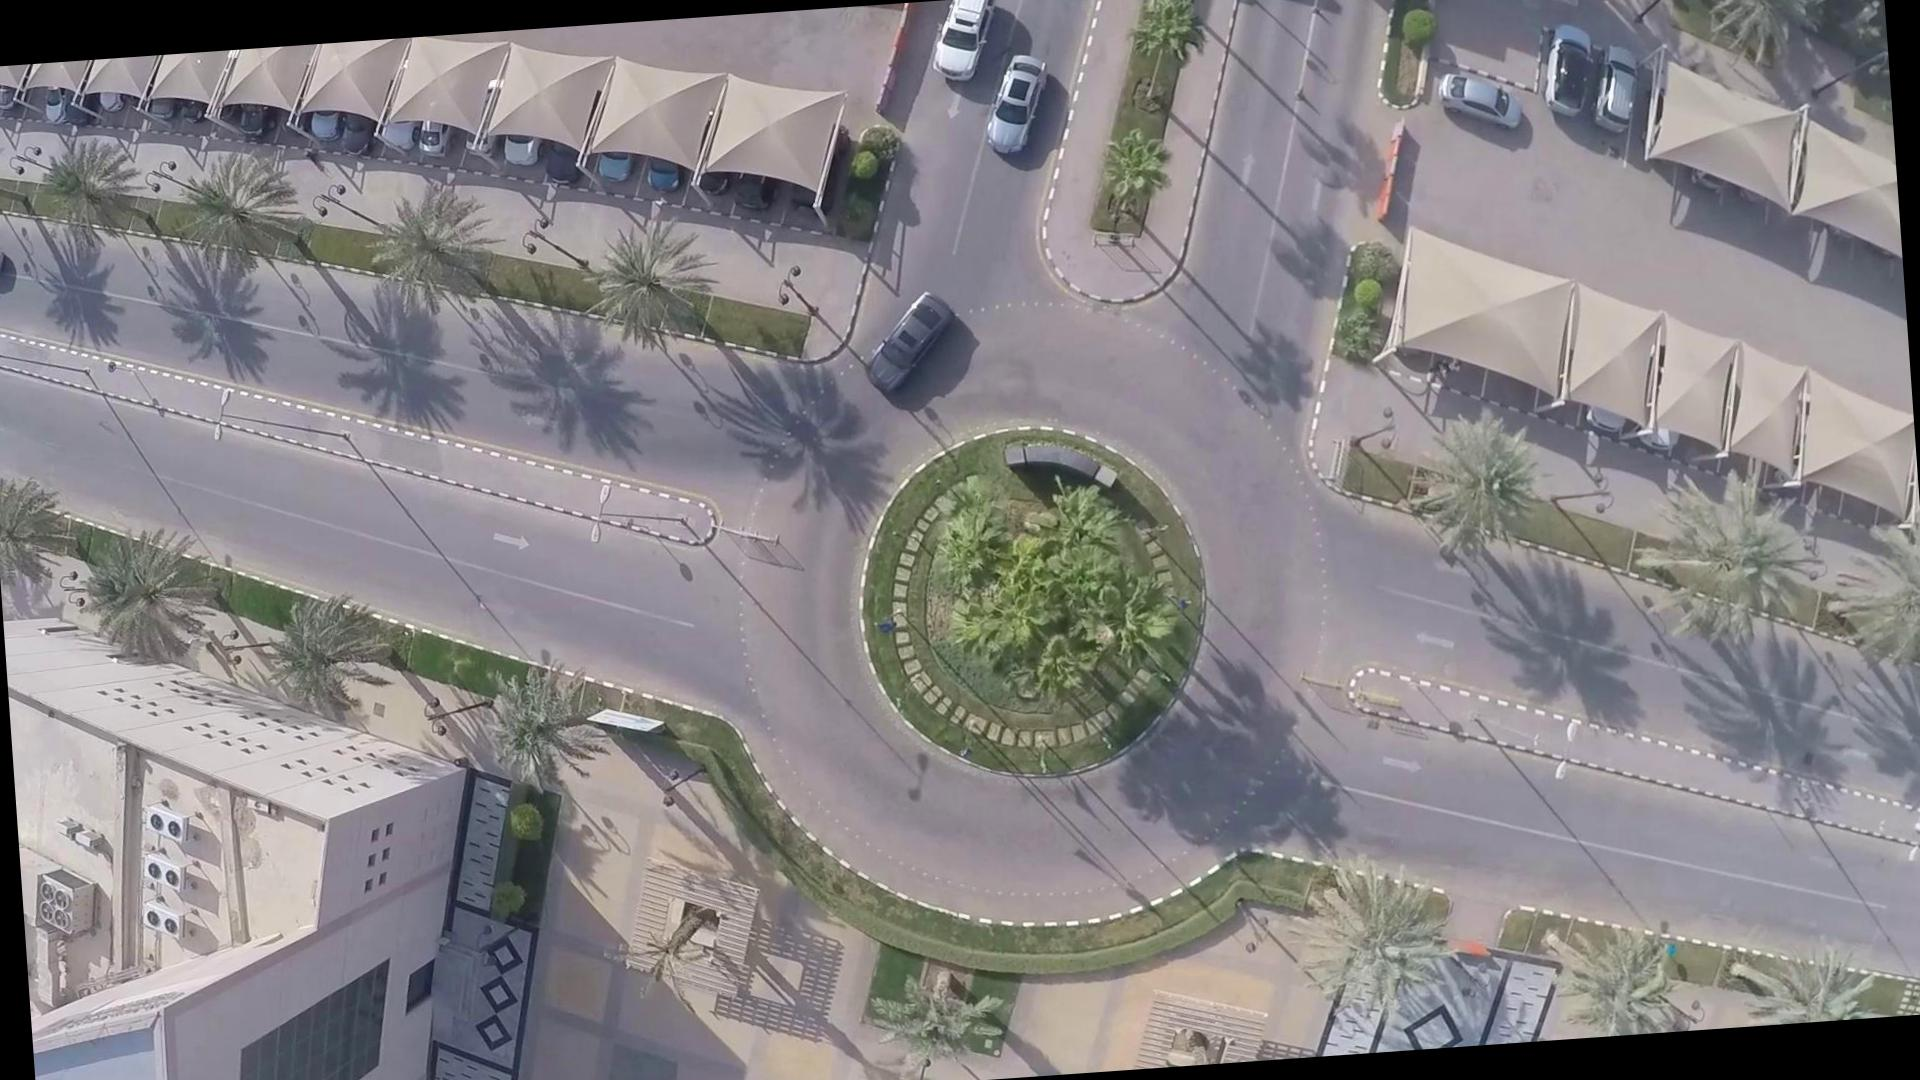vehicle: (864, 268, 966, 402), (987, 42, 1052, 164), (928, 0, 1001, 98), (1438, 58, 1514, 138), (1542, 7, 1582, 127), (1598, 25, 1633, 160)
